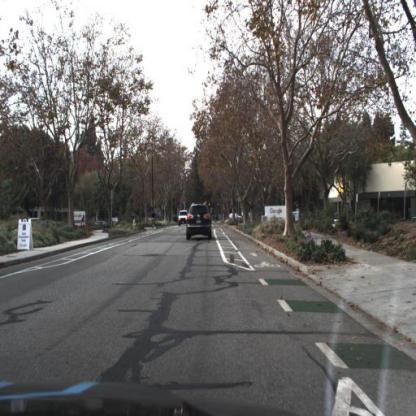biker: (152, 213, 156, 231)
car: (185, 201, 215, 245), (177, 209, 191, 228), (180, 212, 188, 225)
pedestrian: (81, 215, 86, 228)
